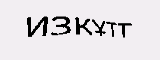З: (50, 12, 74, 36)
И: (22, 15, 50, 37)
К: (74, 11, 95, 37)
Т: (106, 18, 121, 41), (119, 18, 133, 39)
Ұ: (92, 16, 106, 39)
